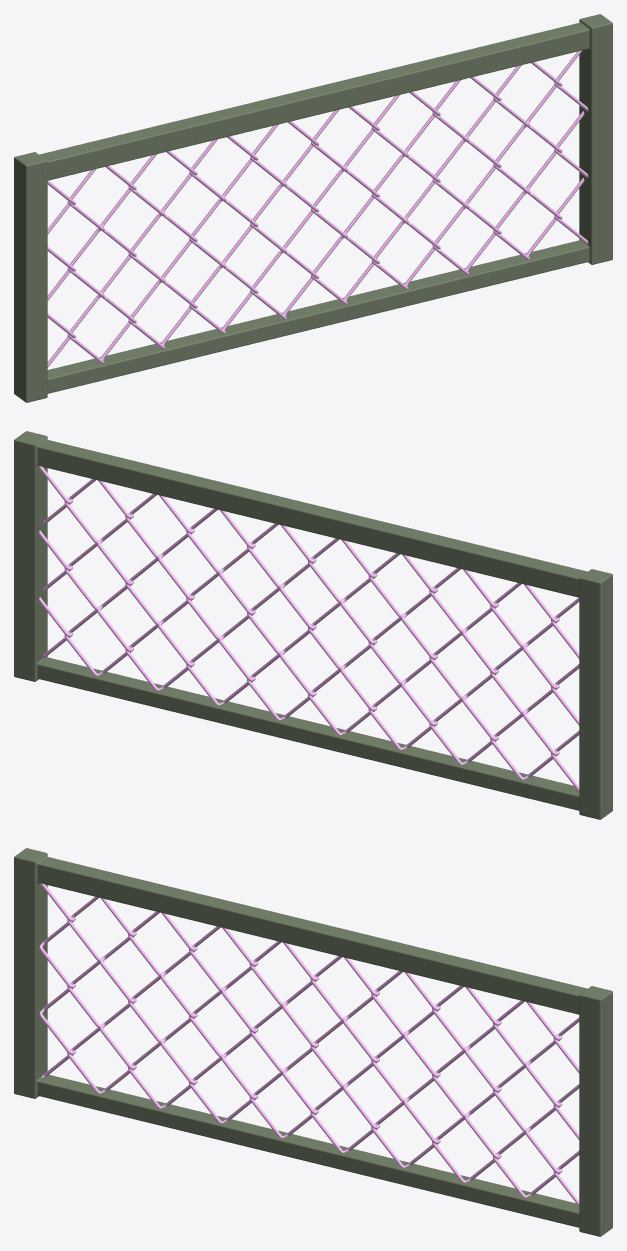
The model's file is Hurdle 5 Fence 02.fbx.
The picture shows the model from 3 angles, top to bottom: view 1: azimuth 30°, elevation 25°; view 2: azimuth 150°, elevation 25°; view 3: azimuth 330°, elevation 25°; orthographic projection.
Parts seen in each view (by area): view 1: Cube.001, Cube; view 2: Cube.001, Cube; view 3: Cube.001, Cube.
Part boxes in pixels (box(x1,y1,x2,y2)): Cube.001: box(14, 14, 612, 402); Cube: box(47, 50, 588, 367); Cube.001: box(14, 431, 612, 819); Cube: box(39, 466, 579, 792); Cube.001: box(14, 848, 612, 1236); Cube: box(39, 883, 579, 1206).
Bounding box in the file's own units: 2626 × 1015 × 98.02.
1 material, 1 textured.
